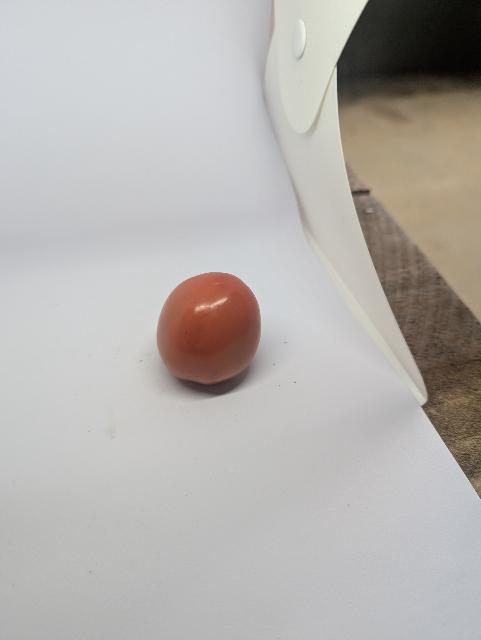red: (146, 265, 283, 403)
